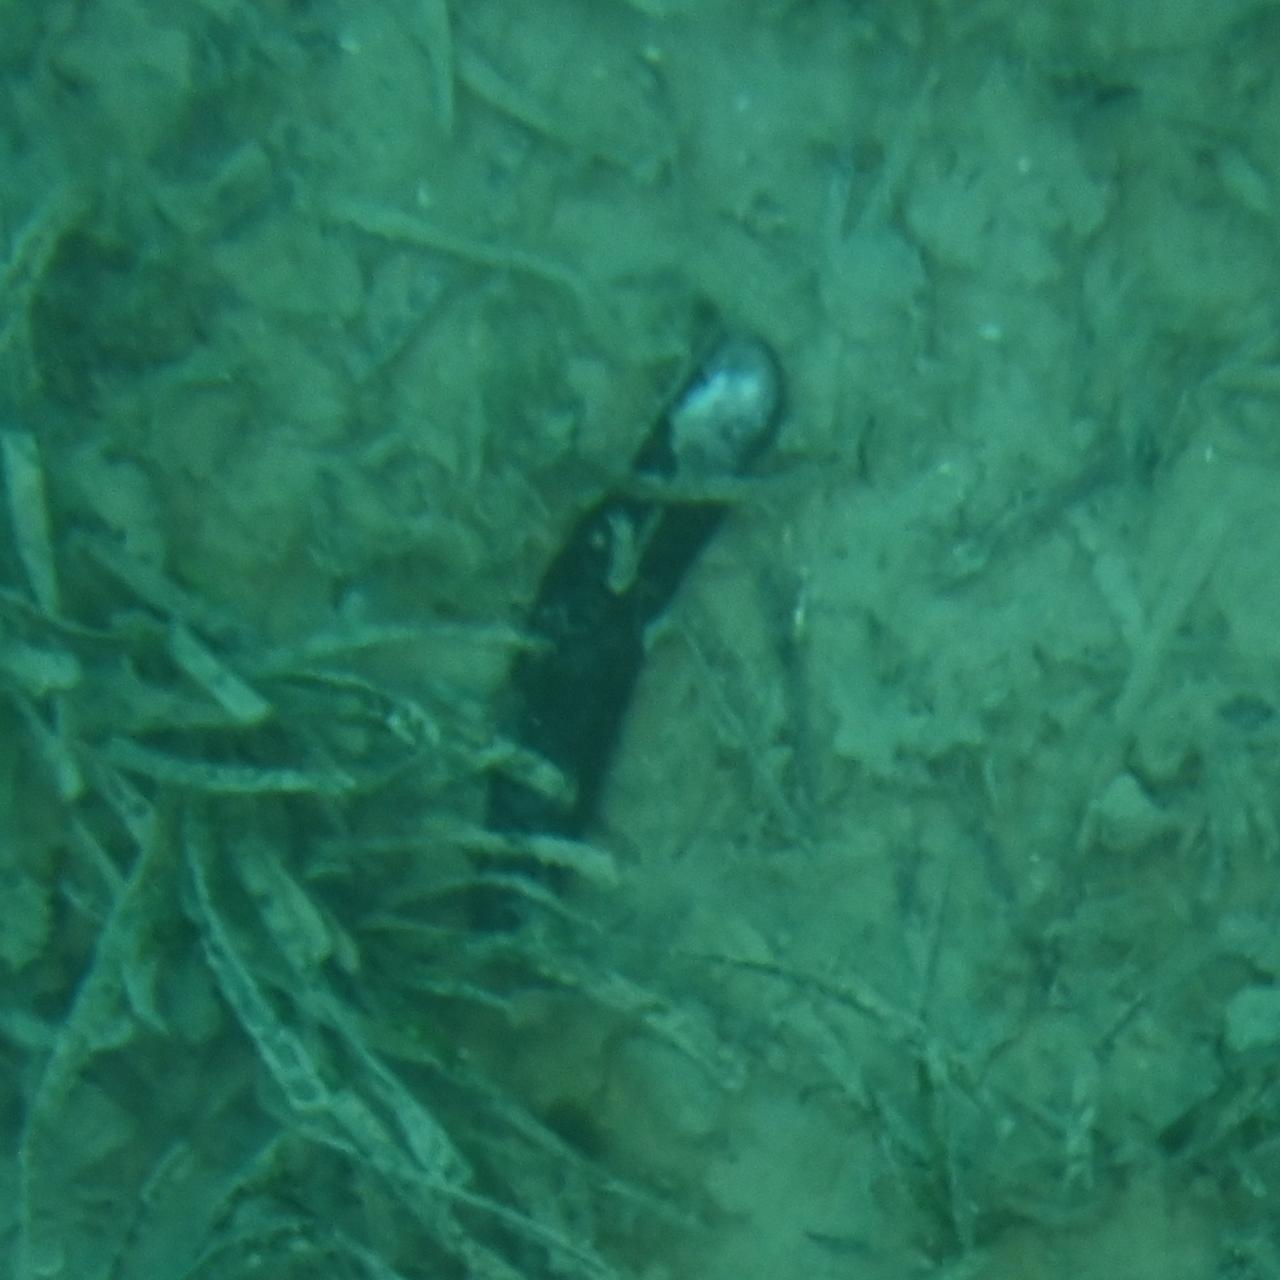Holothuria tubulosa: (468, 326, 812, 954)
